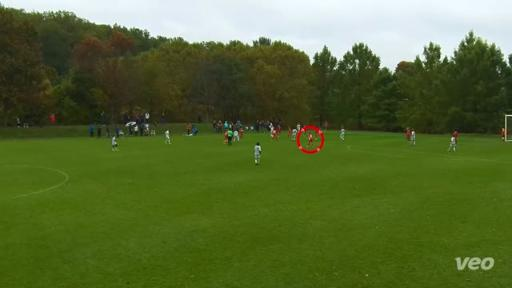highlight_overlay: (296, 126, 326, 154)
